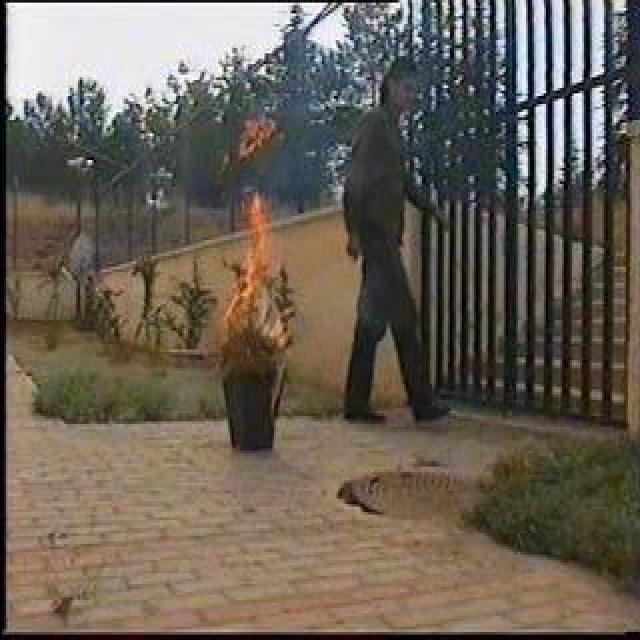fire: (227, 103, 281, 364)
smoke: (281, 145, 313, 228)
